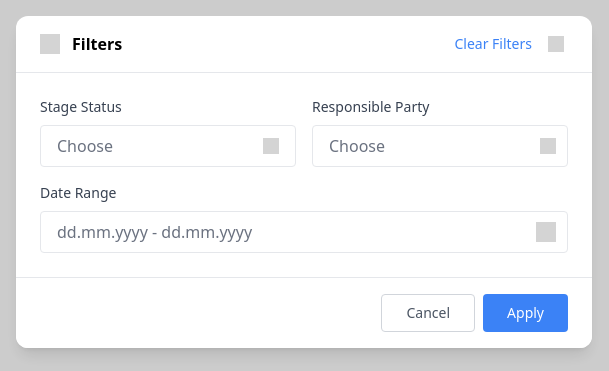
Test: FilterModel Component › handles stage status selection
Click the element with test id "stage-status-dropdown" at (168,146), box x1=40 y1=125 x2=296 y2=167
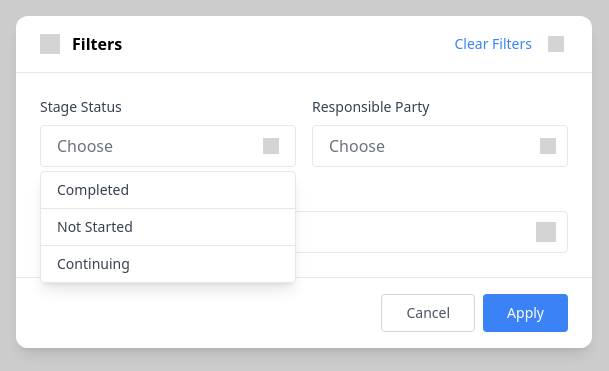
Click the text "Completed" at (168,190), box x1=41 y1=172 x2=295 y2=209
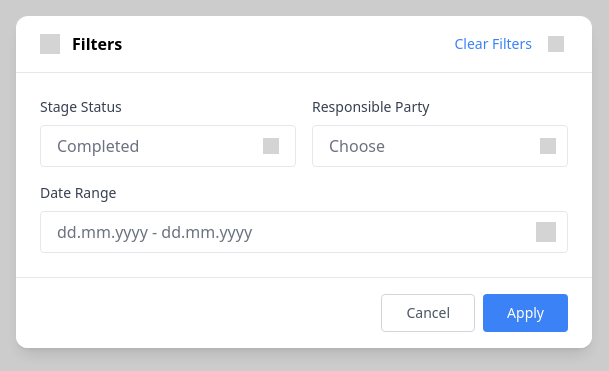
Expected: the element with test id "stage-status-dropdown" reads "Completed", x1=57 y1=135 x2=139 y2=157
